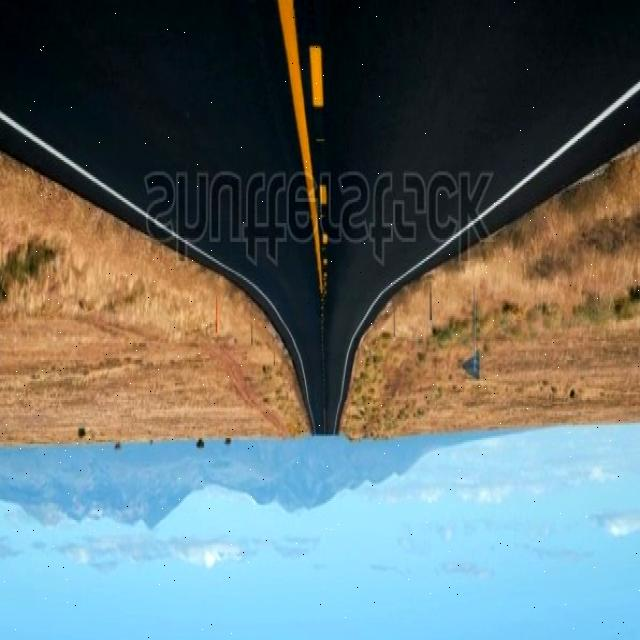lane: (466, 80, 640, 229), (0, 111, 178, 241), (196, 251, 316, 428), (340, 246, 445, 404), (278, 2, 323, 301), (309, 48, 322, 107), (179, 229, 191, 252), (154, 173, 161, 205)
road: (0, 4, 639, 434)
